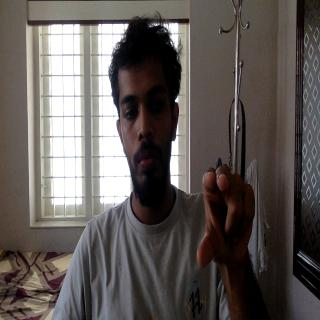No: (180, 138, 270, 307)
